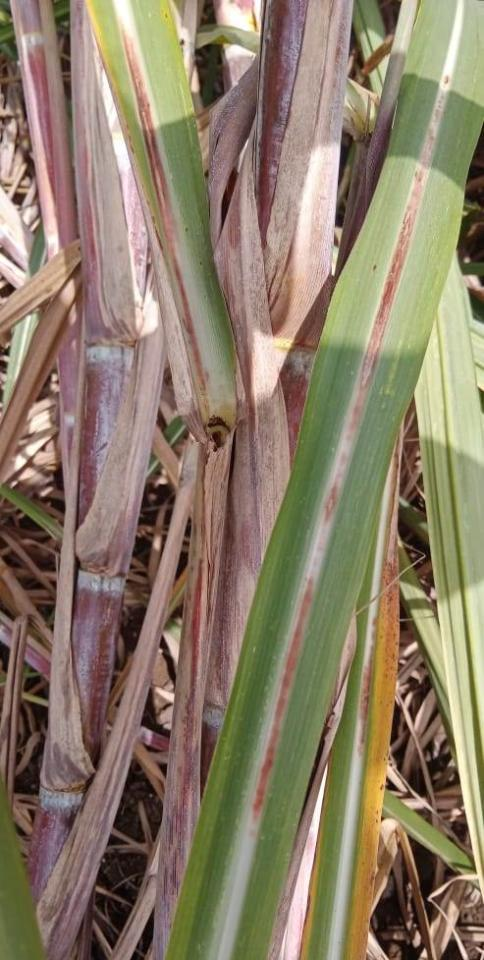RedRot: (250, 74, 453, 824), (121, 17, 207, 396), (357, 612, 379, 762)
